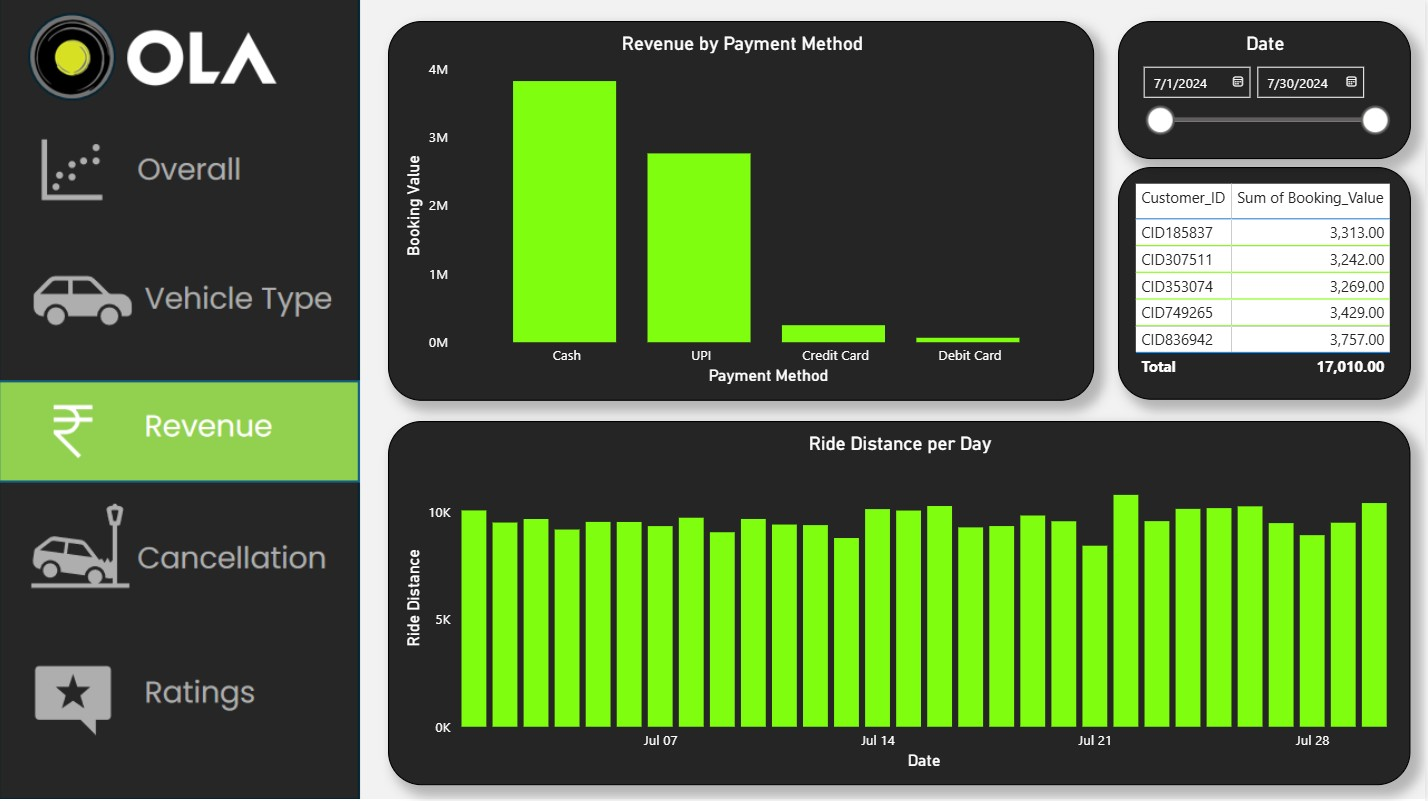

What the dashboard file says about the page in this screenshot:
{"tool":"powerbi","page":{"name":"Revenue","canvas":[1280,720],"ordinal":2},"visuals":[{"type":"actionButton","box":[0,224.3,325.4,91.3],"z":0},{"type":"actionButton","box":[0,446,325.4,91.3],"z":1000},{"type":"actionButton","box":[0,577.2,325.4,91.3],"z":2000},{"type":"actionButton","box":[0,114.4,325.4,91.3],"z":3000},{"type":"columnChart","title":"Revenue by Payment Method","fields":{"Y":["Sum(Bookings-20000-Rows.Booking_Value)"],"Category":["Bookings-20000-Rows.Payment_Method"]},"box":[348.2,19.4,634.2,341.4],"z":4000},{"type":"columnChart","title":"Ride Distance per Day","fields":{"Category":["Bookings-20000-Rows.Date"],"Y":["Sum(Bookings-20000-Rows.Ride_Distance)"]},"box":[348.4,379.1,917.6,327.5],"z":5000},{"type":"slicer","title":"Date","fields":{"Values":["Bookings-20000-Rows.Date"]},"box":[1003.8,19.4,262.6,124.5],"z":6000},{"type":"tableEx","title":"Revenue by Payment Method","fields":{"Values":["Bookings-20000-Rows.Customer_ID","Bookings-20000-Rows.Booking_Value"]},"box":[1003.8,150.8,262.6,209.1],"z":7000}]}

Visuals, with their boxes in screenshot pixels (x1, y1, x2, y2), scaled from the page's 1280x720 canvas onto the 1428x801 screenshot:
actionButton: (0, 250, 363, 351)
actionButton: (0, 496, 363, 598)
actionButton: (0, 642, 363, 744)
actionButton: (0, 127, 363, 229)
"Revenue by Payment Method" columnChart: (388, 22, 1096, 401)
"Ride Distance per Day" columnChart: (389, 422, 1412, 786)
"Date" slicer: (1120, 22, 1413, 160)
"Revenue by Payment Method" tableEx: (1120, 168, 1413, 400)
